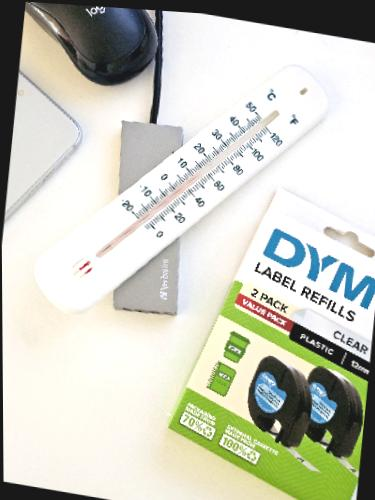thermo: (30, 60, 342, 321)
